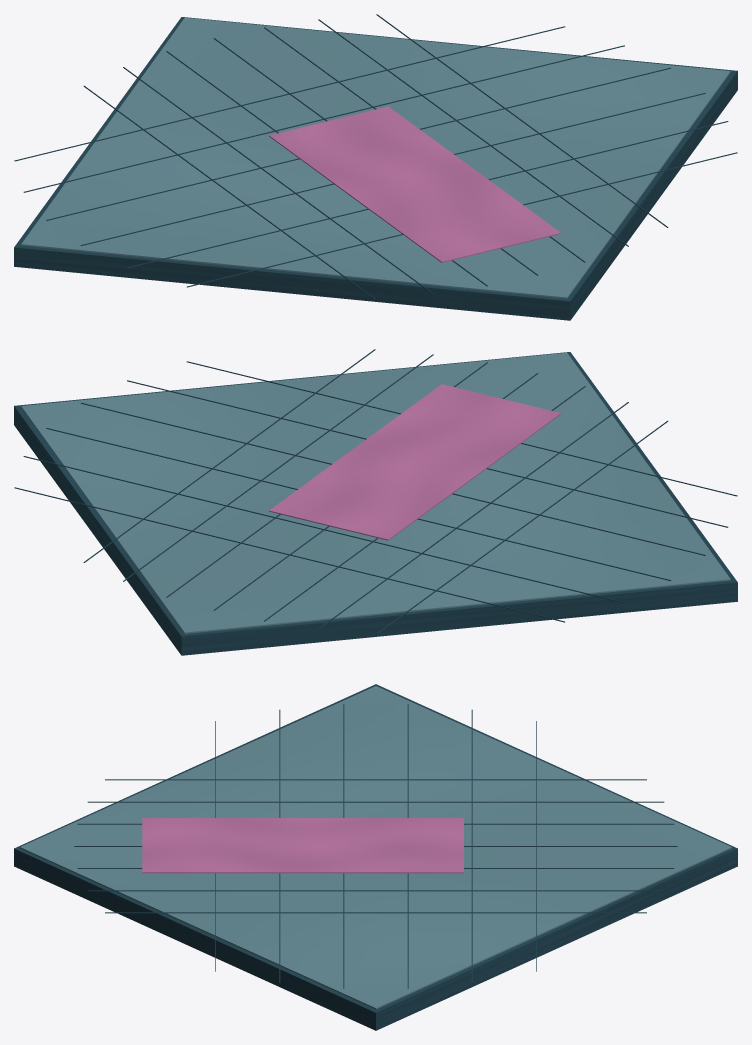
File: atlas100-s061-a07.lod2.glb
3 renders of one model, top to bottom at view 1: azimuth 30°, elevation 25°; view 2: azimuth 150°, elevation 25°; view 3: azimuth 270°, elevation 25°, orthographic. The views are drawn at different scales.
Parts seen in each view (by area): view 1: atlas100-s061-a07:part-001, atlas100-s061-a07:part-021, atlas100-s061-a07:part-000, atlas100-s061-a07:part-015, atlas100-s061-a07:part-014, atlas100-s061-a07:part-016, atlas100-s061-a07:part-017, atlas100-s061-a07:part-018, atlas100-s061-a07:part-019, atlas100-s061-a07:part-009, atlas100-s061-a07:part-005, atlas100-s061-a07:part-004 (+1 smaller); view 2: atlas100-s061-a07:part-001, atlas100-s061-a07:part-021, atlas100-s061-a07:part-000, atlas100-s061-a07:part-015, atlas100-s061-a07:part-014, atlas100-s061-a07:part-017, atlas100-s061-a07:part-016, atlas100-s061-a07:part-018, atlas100-s061-a07:part-019, atlas100-s061-a07:part-009, atlas100-s061-a07:part-005, atlas100-s061-a07:part-004 (+1 smaller); view 3: atlas100-s061-a07:part-001, atlas100-s061-a07:part-021, atlas100-s061-a07:part-000, atlas100-s061-a07:part-005, atlas100-s061-a07:part-009, atlas100-s061-a07:part-004, atlas100-s061-a07:part-010.
Part boxes in pixels (x1,y1,x2,y2): atlas100-s061-a07:part-001: (21, 17, 730, 298); atlas100-s061-a07:part-021: (269, 106, 561, 262); atlas100-s061-a07:part-000: (14, 17, 737, 320); atlas100-s061-a07:part-015: (23, 45, 624, 192); atlas100-s061-a07:part-014: (14, 26, 565, 161); atlas100-s061-a07:part-016: (46, 67, 671, 220); atlas100-s061-a07:part-017: (80, 93, 705, 245); atlas100-s061-a07:part-018: (127, 121, 728, 268); atlas100-s061-a07:part-019: (187, 152, 737, 287); atlas100-s061-a07:part-009: (318, 19, 628, 246); atlas100-s061-a07:part-005: (123, 67, 433, 294); atlas100-s061-a07:part-004: (83, 85, 375, 299); atlas100-s061-a07:part-001: (21, 352, 730, 633); atlas100-s061-a07:part-021: (269, 384, 561, 540); atlas100-s061-a07:part-000: (14, 352, 737, 655); atlas100-s061-a07:part-015: (23, 456, 624, 603); atlas100-s061-a07:part-014: (14, 487, 564, 622); atlas100-s061-a07:part-017: (80, 402, 705, 555); atlas100-s061-a07:part-016: (46, 428, 671, 580); atlas100-s061-a07:part-018: (127, 380, 728, 527); atlas100-s061-a07:part-019: (186, 361, 737, 496); atlas100-s061-a07:part-009: (123, 354, 433, 581); atlas100-s061-a07:part-005: (318, 402, 628, 629); atlas100-s061-a07:part-004: (376, 420, 668, 634); atlas100-s061-a07:part-001: (20, 686, 731, 1009); atlas100-s061-a07:part-021: (142, 818, 463, 873); atlas100-s061-a07:part-000: (14, 684, 737, 1030); atlas100-s061-a07:part-005: (87, 801, 664, 802); atlas100-s061-a07:part-009: (87, 890, 664, 891); atlas100-s061-a07:part-004: (105, 779, 646, 780); atlas100-s061-a07:part-010: (105, 912, 646, 913).
Bounding box in the file's own units: 13.35 × 0.404 × 12.42.
3 materials, 3 textured.
